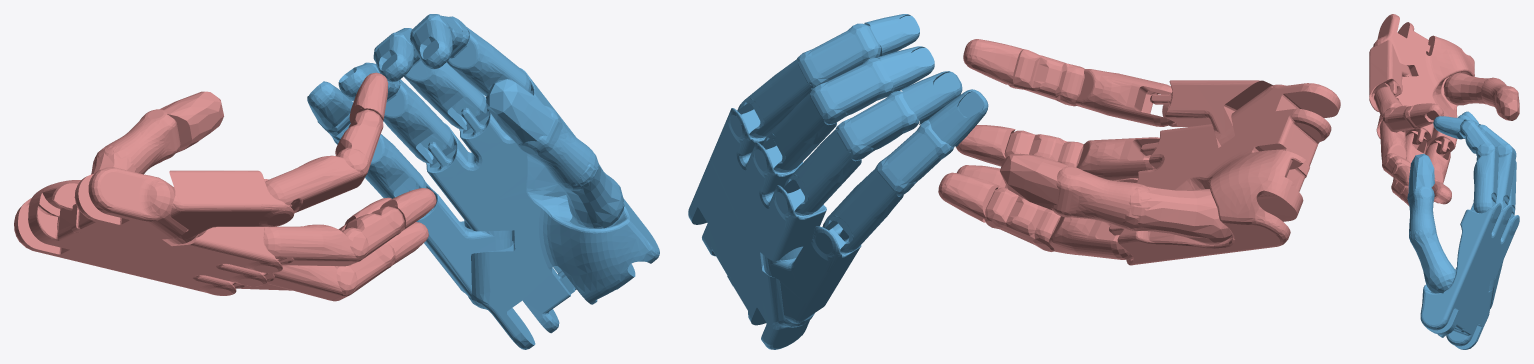
Rendered from MotorCycle_pc.glb.
3 views of the same model, side by side, from view 1: azimuth 30°, elevation 25°; view 2: azimuth 150°, elevation 25°; view 3: azimuth 270°, elevation 25° (orthographic). The views are drawn at different scales.
Parts seen in each view (by area): view 1: geom_1, geom_2; view 2: geom_2, geom_1; view 3: geom_1, geom_2.
Boxes of the visible parts, x1,y1,x2,y2 form: geom_1: (307,14,659,349); geom_2: (14,72,436,301); geom_2: (938,39,1340,265); geom_1: (688,14,988,349); geom_1: (1407,111,1519,349); geom_2: (1369,14,1519,205).
Bounding box in the file's own units: 0.3285 × 0.1773 × 0.1186.
